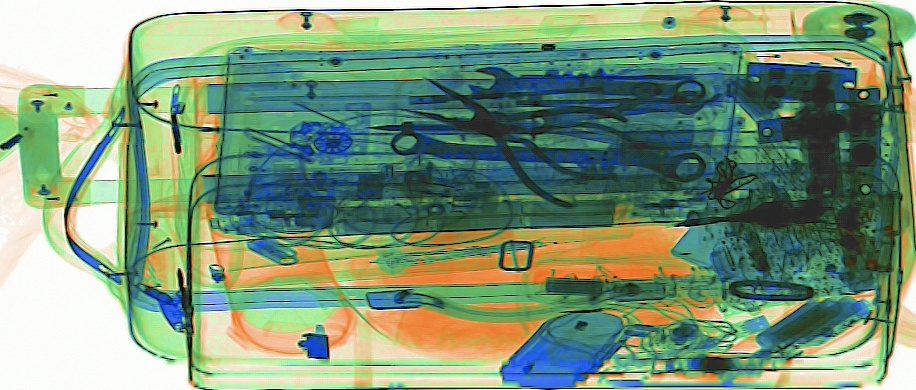powerbank: (753, 290, 872, 356)
